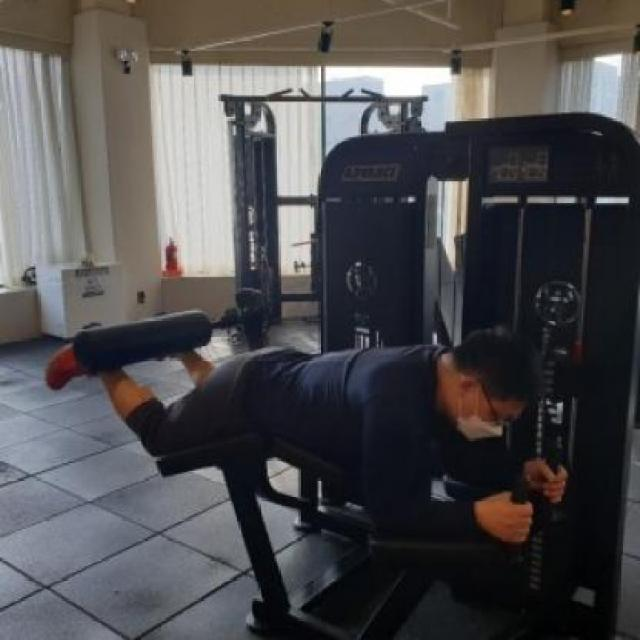reg curl machine: (41, 109, 637, 640)
